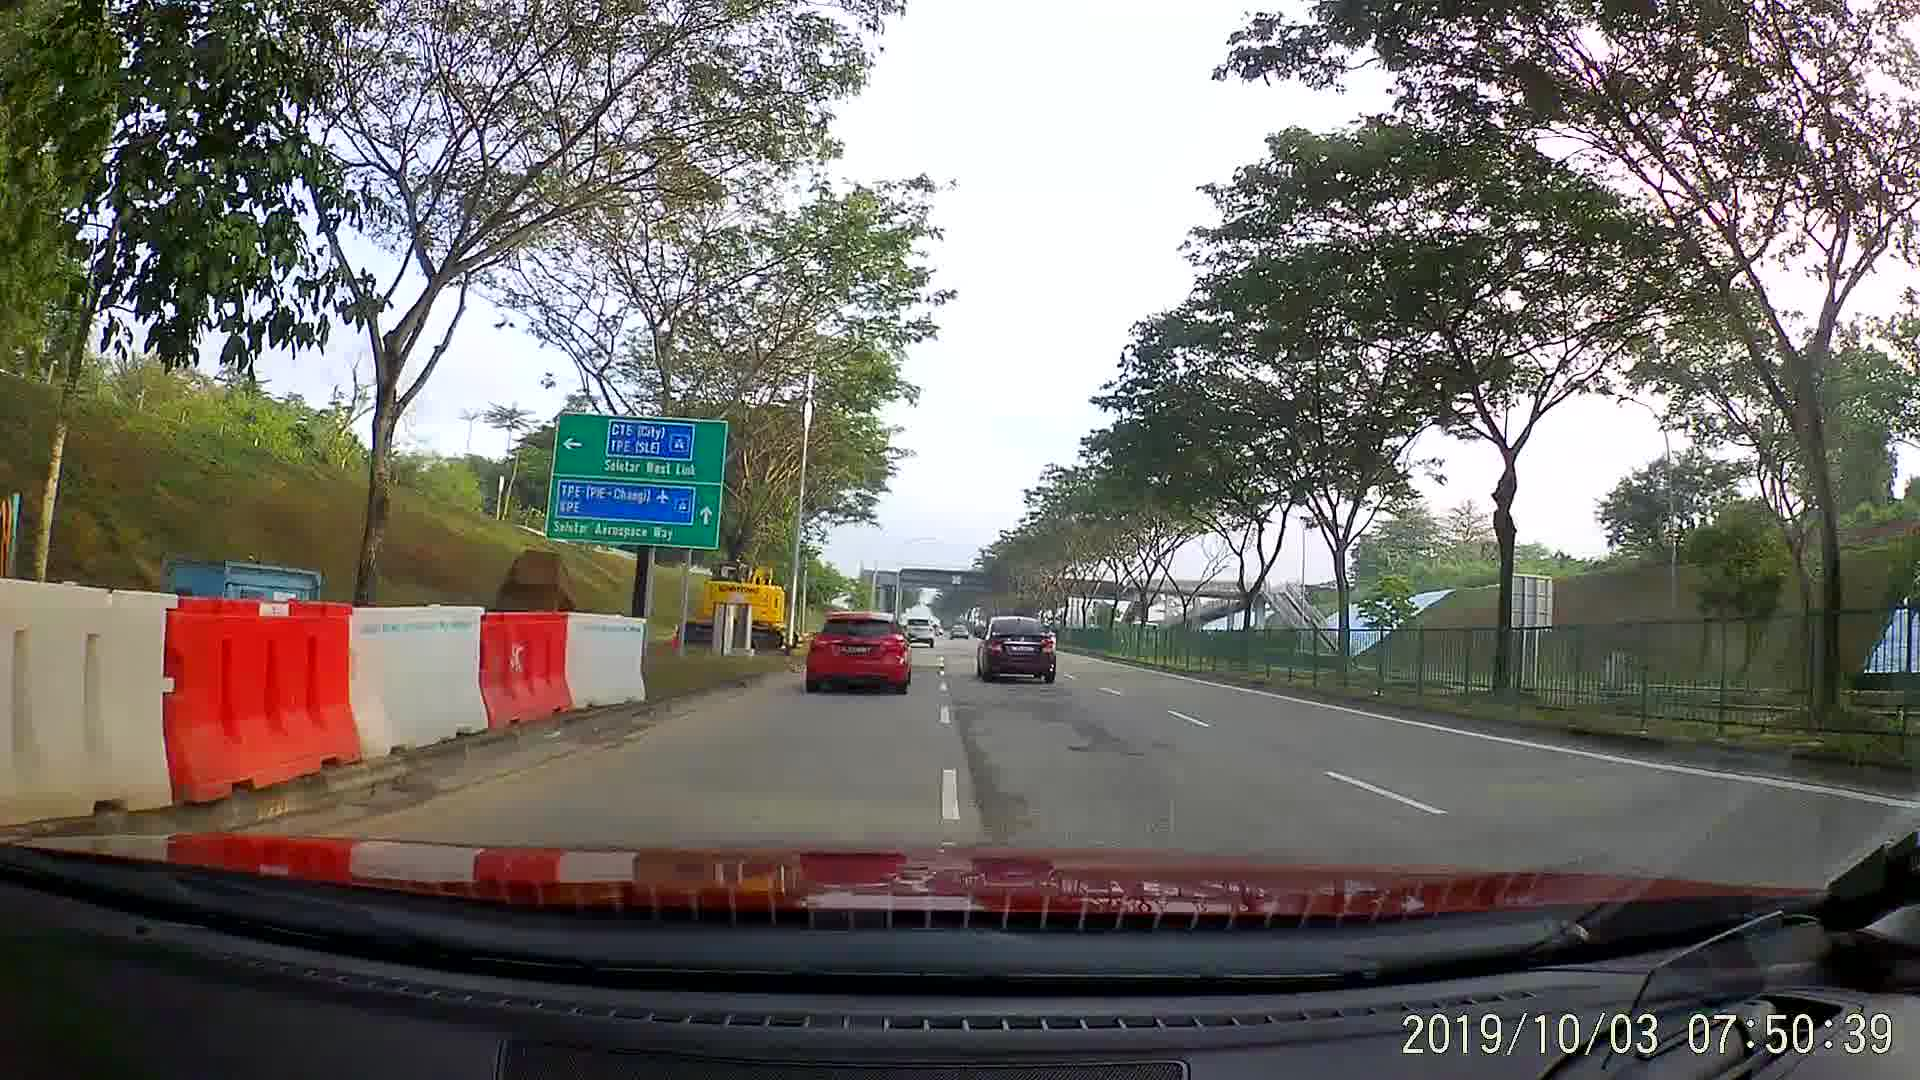car: (804, 607, 916, 698), (976, 617, 1060, 680), (901, 618, 942, 651), (949, 622, 969, 640)
